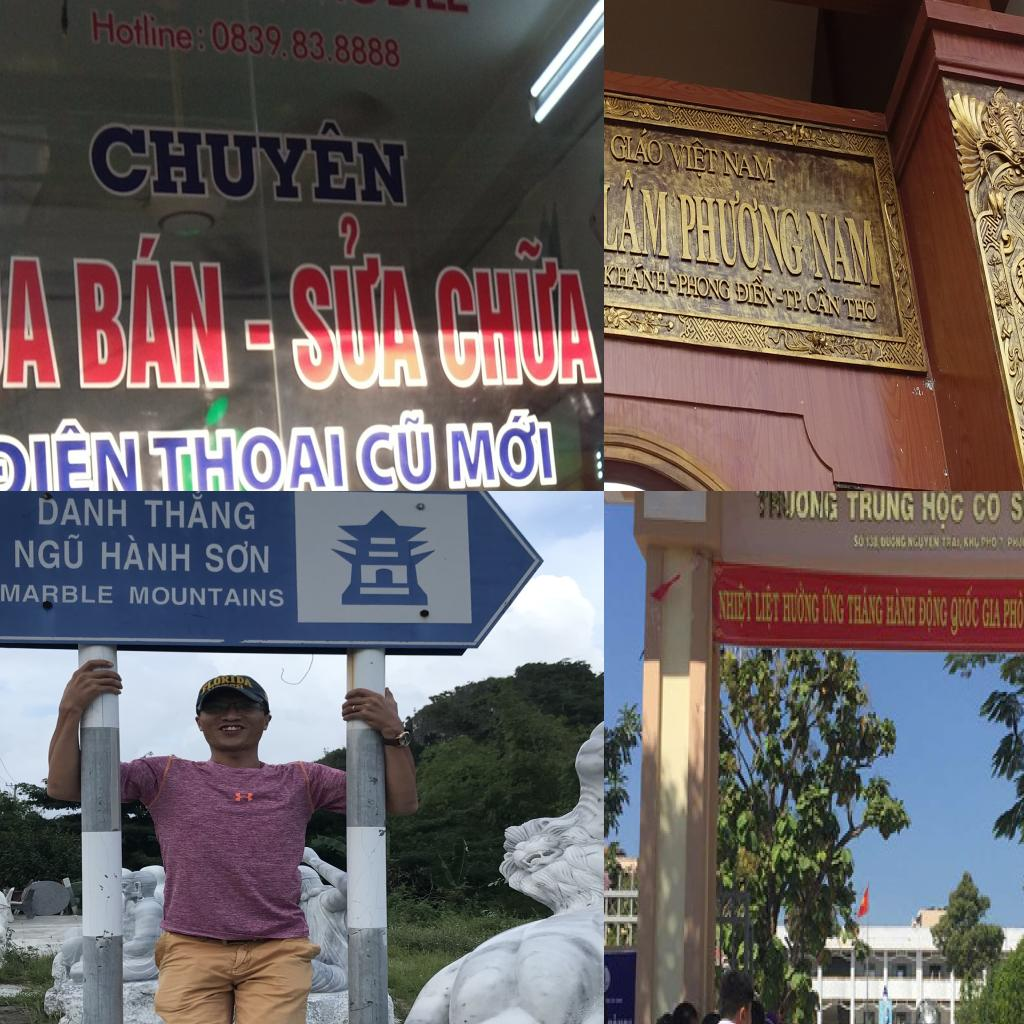text: (90, 110, 422, 210), (278, 214, 431, 399), (74, 222, 236, 392), (430, 239, 604, 397), (142, 417, 356, 491), (206, 11, 407, 77), (677, 181, 806, 278), (0, 411, 148, 491), (443, 401, 565, 491), (0, 241, 66, 394), (348, 407, 441, 491), (87, 0, 209, 58), (604, 165, 670, 259), (806, 211, 881, 289), (143, 491, 257, 531), (296, 0, 482, 24), (127, 585, 285, 609), (98, 533, 192, 573), (36, 496, 130, 528), (14, 530, 86, 571), (753, 491, 839, 524), (666, 132, 720, 182), (604, 255, 669, 294), (0, 582, 114, 604), (845, 491, 915, 526), (610, 122, 664, 167), (203, 540, 272, 574), (781, 278, 841, 317), (720, 148, 777, 184), (919, 491, 965, 535), (782, 582, 822, 628), (716, 582, 753, 630), (950, 584, 982, 639), (242, 308, 281, 351), (677, 272, 731, 302), (734, 270, 776, 307), (848, 586, 884, 628), (918, 590, 950, 634), (200, 674, 257, 698), (754, 584, 782, 632), (886, 588, 918, 630), (970, 491, 1002, 526), (842, 294, 880, 323), (821, 584, 847, 626), (1002, 588, 1024, 636), (981, 597, 1003, 630), (907, 533, 941, 551), (1009, 491, 1024, 526), (880, 533, 907, 551), (940, 535, 964, 553), (980, 535, 999, 553), (964, 535, 980, 551), (853, 533, 867, 551), (1008, 535, 1024, 550)
